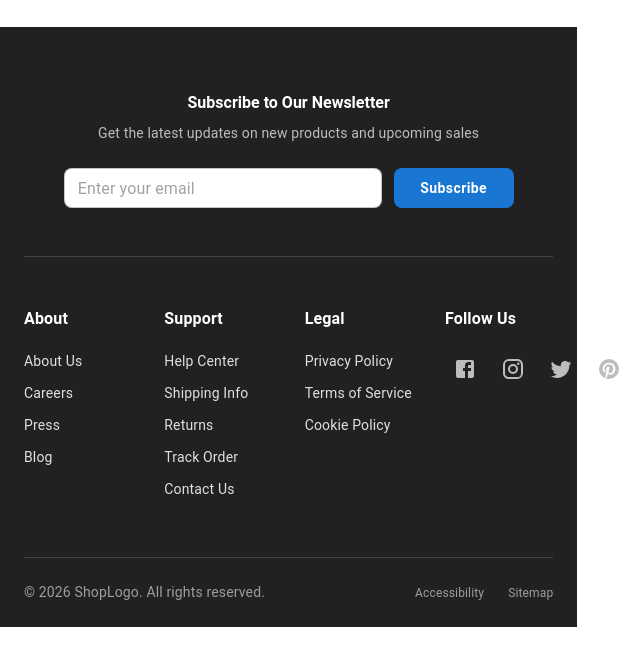
Test: Footer › validates email input
In the field labelled "Enter your email": (223, 188) 64,168 -> 382,208, type "invalid-email"
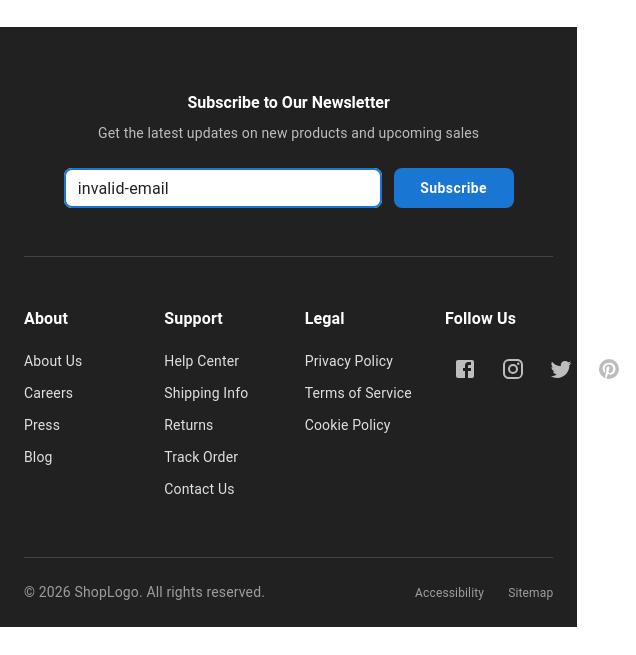
Click the button "Subscribe": (454, 188) 394,168 -> 514,208
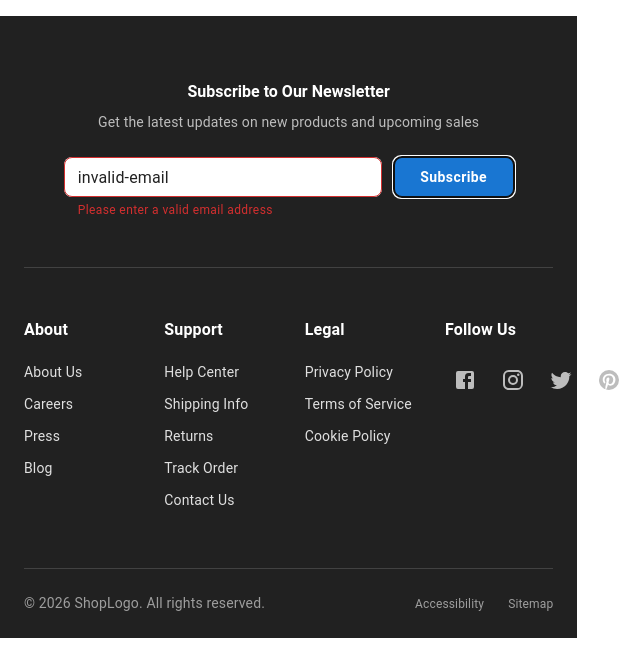
Now the text "Please enter a valid email address" is shown, box 78,203 -> 273,217
